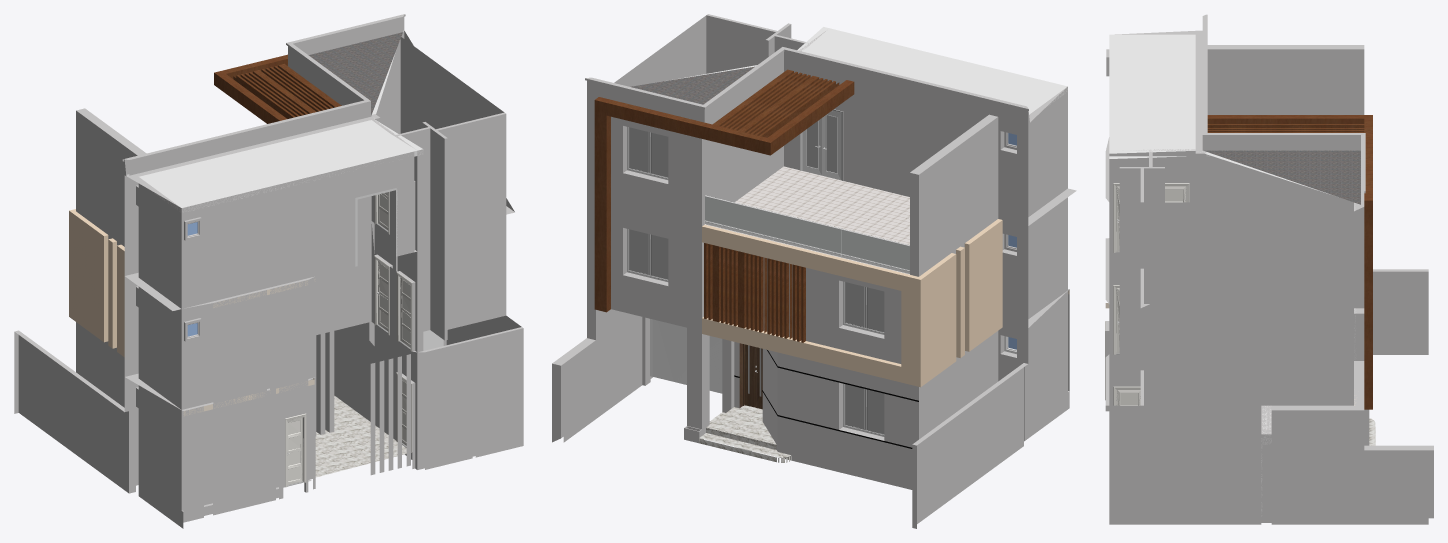
The picture shows the model from 3 angles, left to right: view 1: azimuth 30°, elevation 25°; view 2: azimuth 150°, elevation 25°; view 3: azimuth 270°, elevation 25°; orthographic projection.
Size of the model in its own units: 0.1208 by 0.1073 by 0.0946.
Materials: 25 (5 with a texture image).
